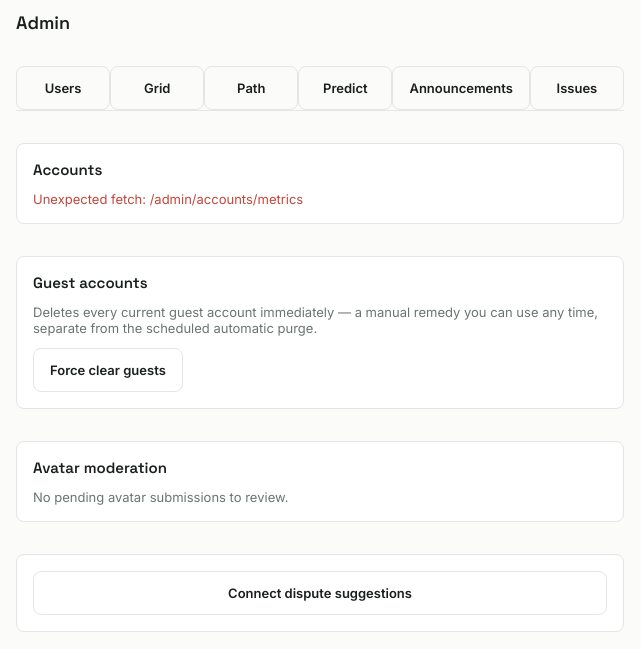
it: AdminScreen › REQ-512: shows "Player suggestions (3)" when 3 suggestions are pending
The width and height of the screenshot is (641, 649).
What coordinates should you click on to do the following:
click the tab "Grid"
I would click on:
 (157, 88)
Its box is [110,66,204,110].
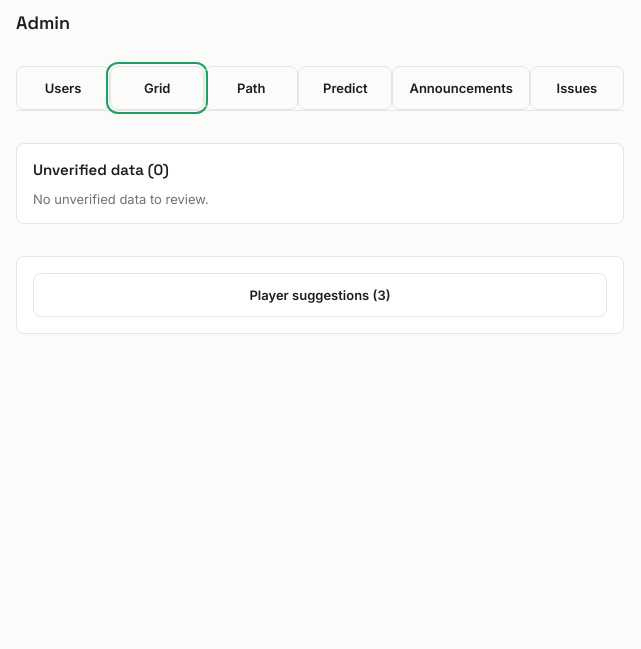
Result: the button "Player suggestions (3)" is shown at [33,273,607,317]
